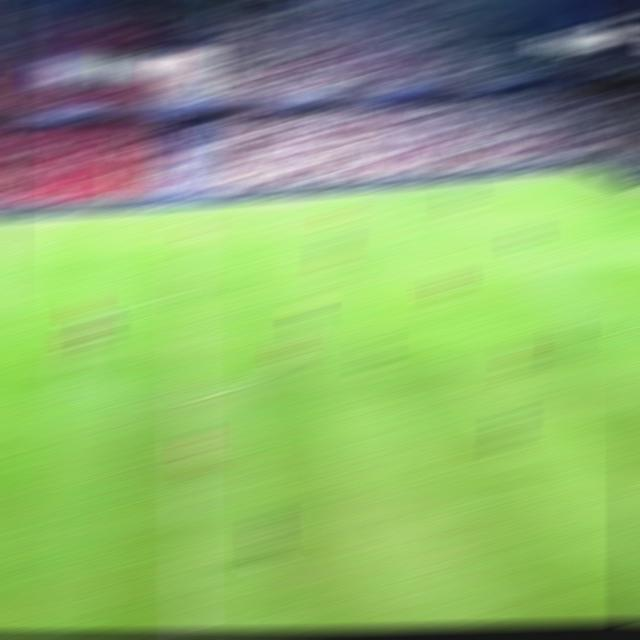bigarea_top_inner: (490, 212, 518, 222)
bottom_arc_area_intersection: (623, 320, 640, 333)
corner: (566, 168, 596, 176)
halfcircle_bottom: (168, 385, 205, 410)
halfcircle_top: (167, 282, 205, 304)
midline_top_intersection: (169, 204, 199, 218)
top_arc_area_intersection: (541, 253, 569, 266)
